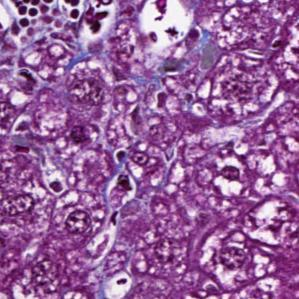inflammation: (106, 142, 141, 204)
